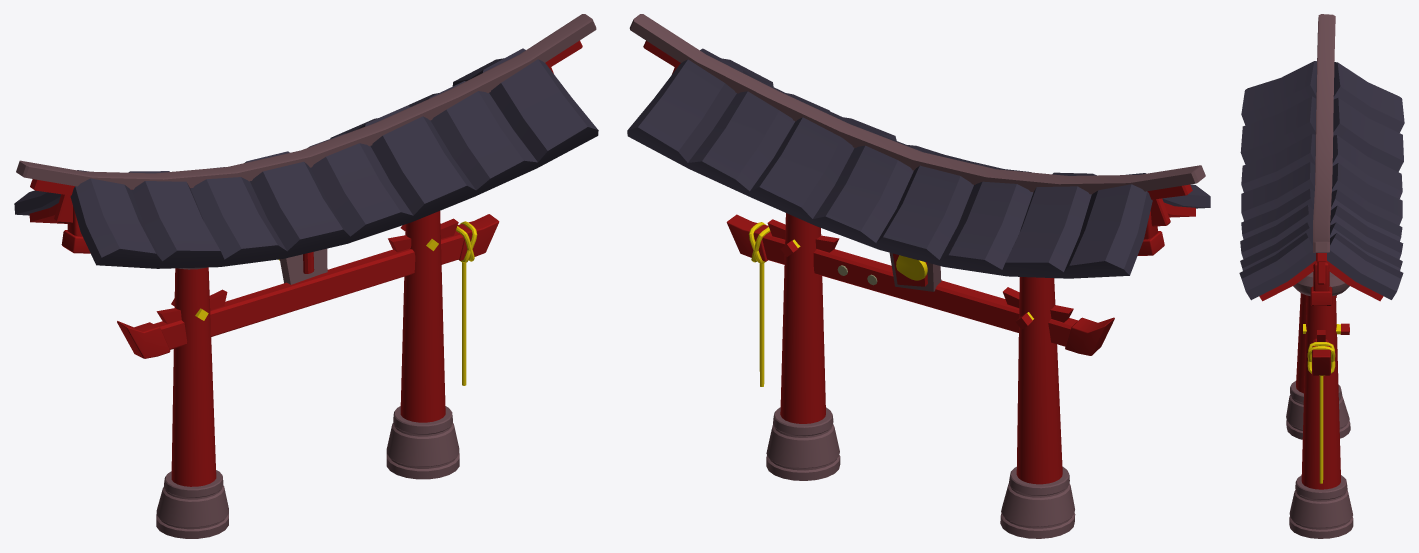
The model's file is Torii_Gate_01.fbx.
3 renders of one model, left to right at view 1: azimuth 30°, elevation 25°; view 2: azimuth 150°, elevation 25°; view 3: azimuth 270°, elevation 25°, orthographic. The views are drawn at different scales.
Parts seen in each view (by area): view 1: Torii_Gate_01; view 2: Torii_Gate_01; view 3: Torii_Gate_01.
Part boxes in pixels (x1=…): Torii_Gate_01: x1=14, y1=14, x2=598, y2=538; Torii_Gate_01: x1=627, y1=14, x2=1210, y2=538; Torii_Gate_01: x1=1239, y1=14, x2=1404, y2=538.
Bounding box in the file's own units: 1474 × 1010 × 426.
